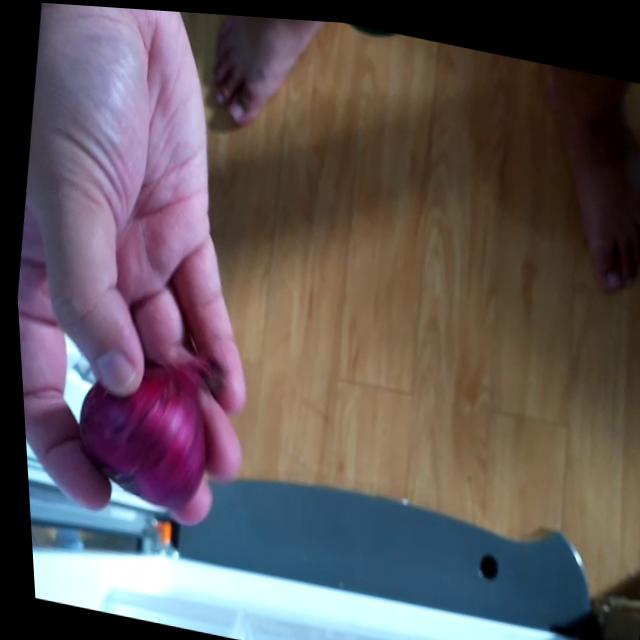onion: (59, 316, 226, 520)
